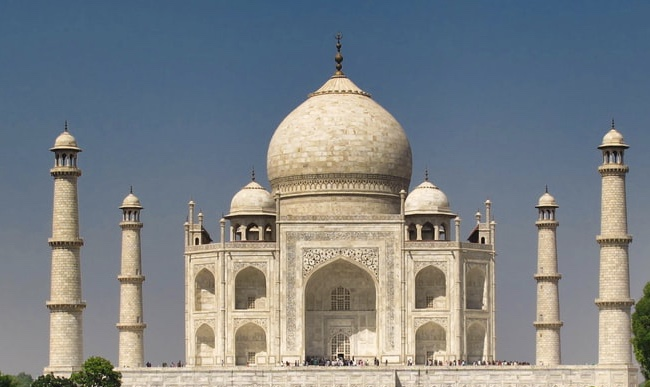Mosque: (40, 54, 639, 374)
